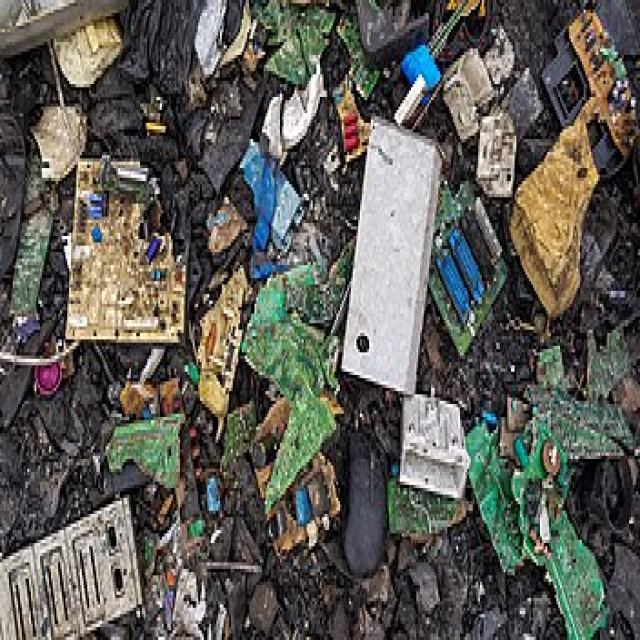heap: (5, 14, 640, 640)
